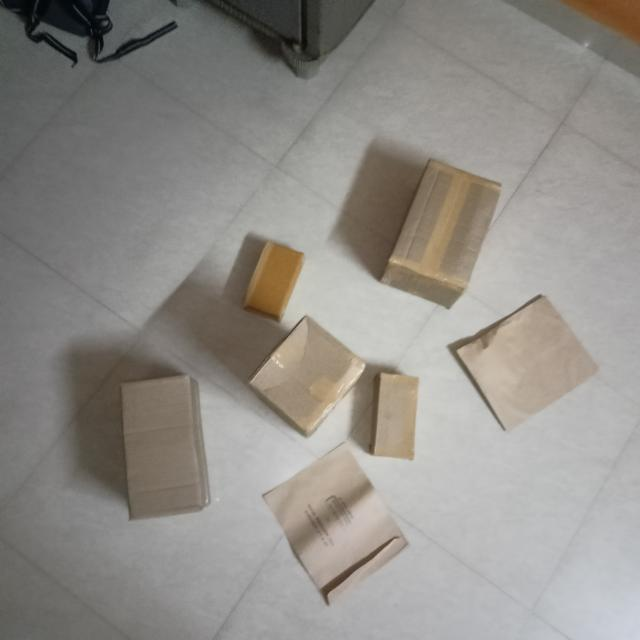box: (265, 441, 413, 618), (460, 293, 613, 440), (244, 309, 375, 436), (107, 377, 205, 532), (390, 163, 503, 293), (241, 234, 309, 322), (375, 373, 422, 461)
